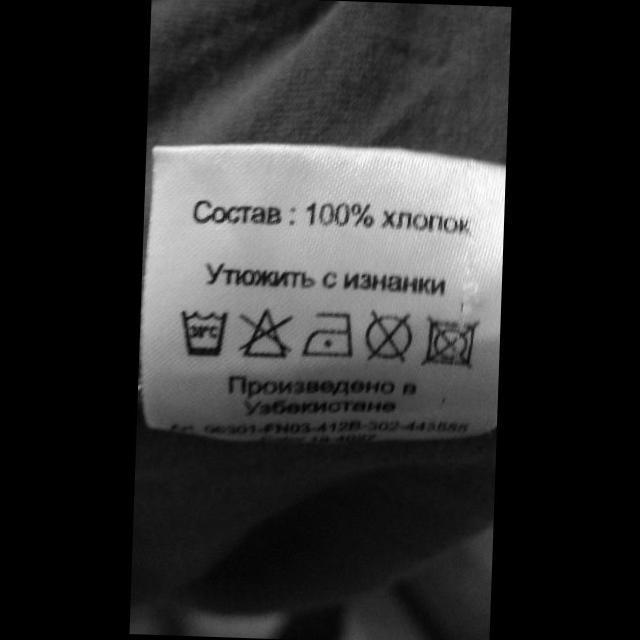30C: (175, 306, 230, 362)
DN_bleach: (234, 304, 298, 362)
DN_dry_clean: (358, 308, 416, 367)
DN_tumble_dry: (419, 312, 480, 374)
iron_low: (299, 306, 358, 365)
